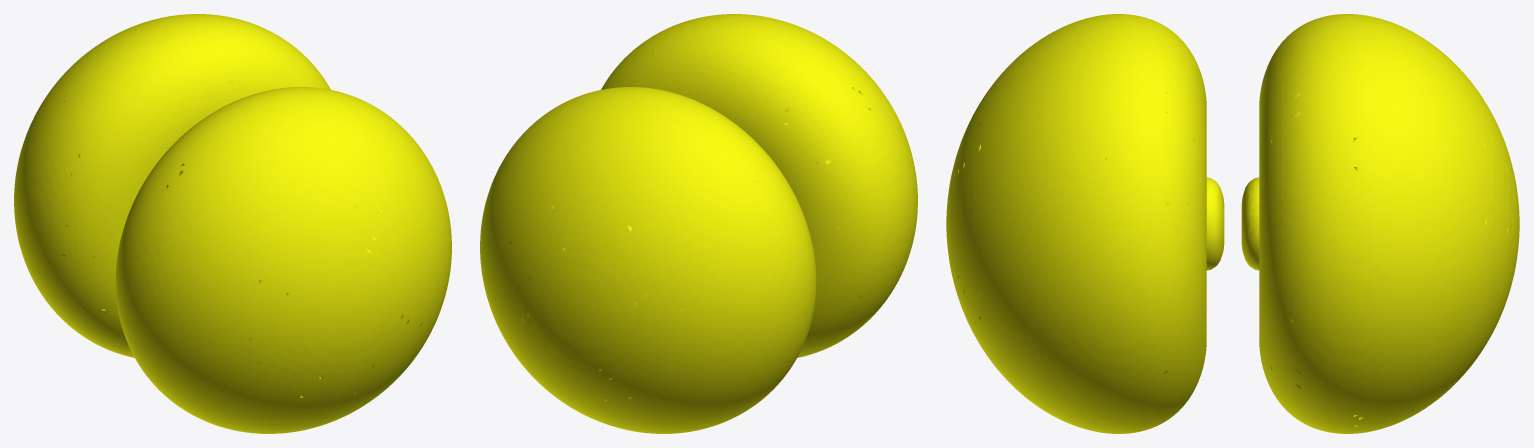
File: orb_n=3_ l=1 _m=-1.fbx
3 views of the same model, side by side, from view 1: azimuth 30°, elevation 25°; view 2: azimuth 150°, elevation 25°; view 3: azimuth 270°, elevation 25° (orthographic). The views are drawn at different scales.
Parts seen in each view (by area): view 1: orb_n=3_ l=1 _m=-1; view 2: orb_n=3_ l=1 _m=-1; view 3: orb_n=3_ l=1 _m=-1.
Part boxes in pixels (x1,y1,x2,y2): orb_n=3_ l=1 _m=-1: [14, 14, 451, 433]; orb_n=3_ l=1 _m=-1: [480, 14, 917, 433]; orb_n=3_ l=1 _m=-1: [946, 14, 1519, 433].
Bounding box in the file's own units: 3579 × 3579 × 4884.
